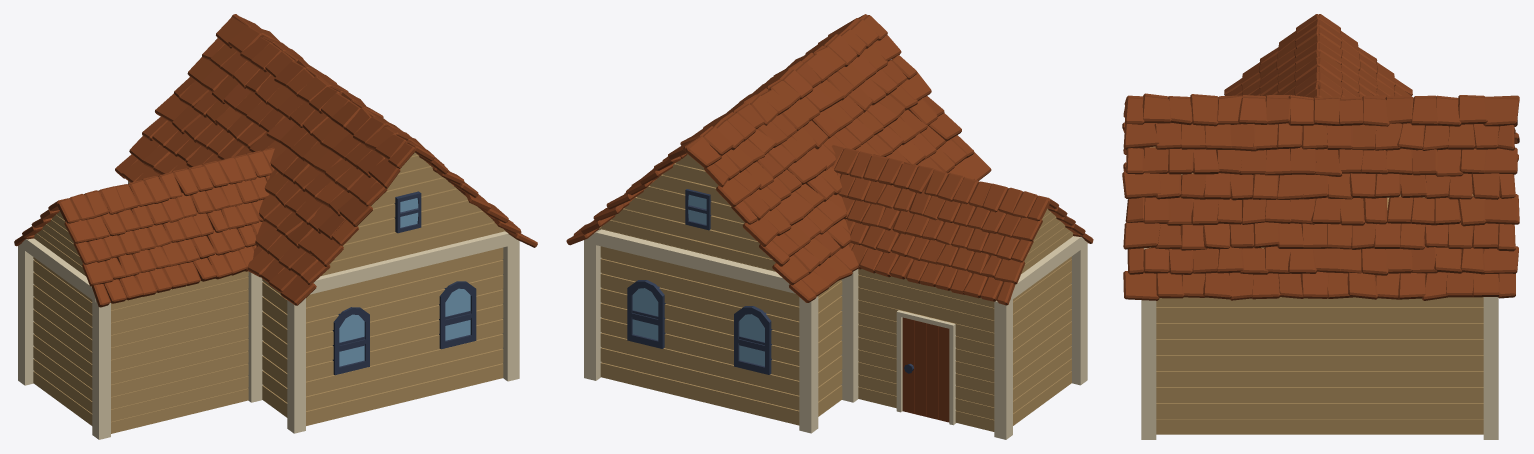
File: HouseA.fbx
3 renders of one model, left to right at view 1: azimuth 30°, elevation 25°; view 2: azimuth 150°, elevation 25°; view 3: azimuth 270°, elevation 25°, orthographic. The views are drawn at different scales.
Visible parts, largest first — view 1: Plane.002, Cube.013, Cube.014, Plane, Cube.001, Cube.003, Cube.011, Cube.005, Cube.006, Cube.019, Cube.020, Cube.010 (+4 smaller); view 2: Plane.002, Cube.014, Plane, Cube.013, Cube.001, Cube.021, Cube.002, Cube.008, Cube.010, Cube.018, Cube.017, Cube.007 (+5 smaller); view 3: Plane.002, Cube.014, Plane, Cube.007, Cube.006.
Boxes of the visible parts, bbox=[...] form: Plane.002: bbox=[115, 14, 537, 305]; Cube.013: bbox=[33, 257, 248, 433]; Cube.014: bbox=[262, 247, 503, 425]; Plane: bbox=[14, 147, 274, 307]; Cube.001: bbox=[321, 152, 505, 275]; Cube.003: bbox=[310, 231, 518, 294]; Cube.011: bbox=[92, 300, 110, 439]; Cube.005: bbox=[287, 298, 305, 433]; Cube.006: bbox=[502, 239, 519, 381]; Cube.019: bbox=[439, 281, 476, 349]; Cube.020: bbox=[332, 307, 369, 375]; Cube.010: bbox=[18, 243, 34, 385]; Plane.002: bbox=[566, 14, 991, 302]; Cube.014: bbox=[598, 226, 842, 425]; Plane: bbox=[831, 145, 1093, 305]; Cube.013: bbox=[858, 256, 1071, 431]; Cube.001: bbox=[600, 154, 775, 270]; Cube.021: bbox=[896, 310, 955, 425]; Cube.002: bbox=[584, 229, 795, 293]; Cube.008: bbox=[799, 296, 818, 433]; Cube.010: bbox=[994, 299, 1012, 439]; Cube.018: bbox=[734, 306, 772, 374]; Cube.017: bbox=[627, 280, 665, 348]; Cube.007: bbox=[584, 240, 601, 380]; Plane.002: bbox=[1122, 93, 1519, 300]; Cube.014: bbox=[1156, 297, 1483, 434]; Plane: bbox=[1224, 14, 1412, 98]; Cube.007: bbox=[1483, 297, 1498, 439]; Cube.006: bbox=[1141, 300, 1156, 439].
Bounding box in the file's own units: 558 × 360 × 451.
